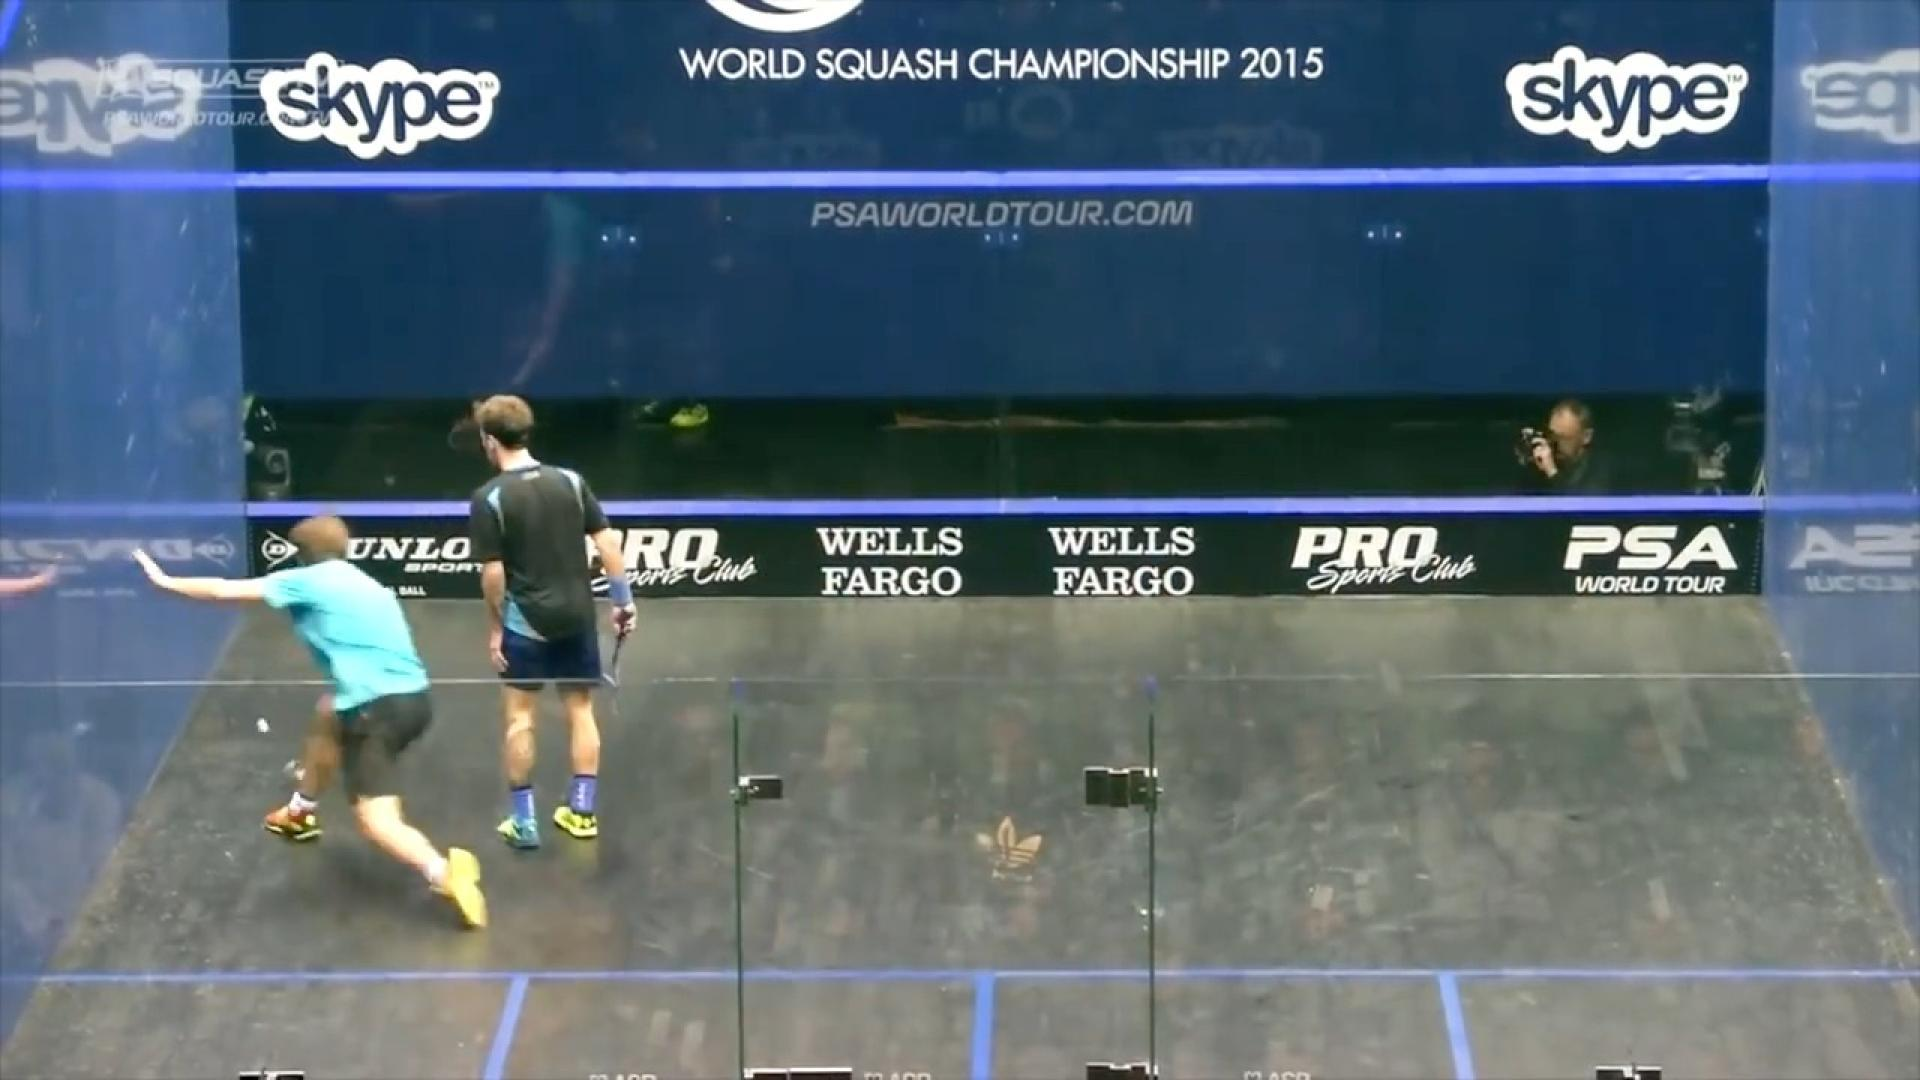Squash-Ball: (240, 703, 287, 753)
